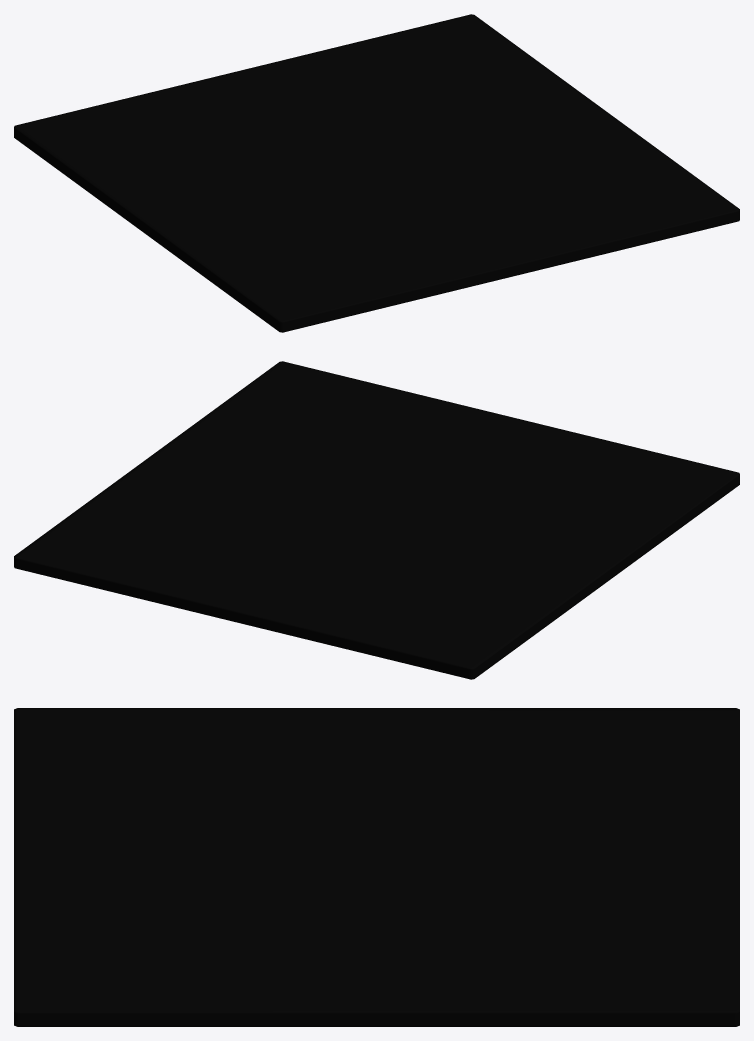
Rendered from CeilingLamp_Embed.FBX.
The picture shows the model from 3 angles, top to bottom: view 1: azimuth 30°, elevation 25°; view 2: azimuth 150°, elevation 25°; view 3: azimuth 270°, elevation 25°; orthographic projection. The views are drawn at different scales.
Visible parts, largest first — view 1: CeilingLamp_Embed; view 2: CeilingLamp_Embed; view 3: CeilingLamp_Embed.
Part boxes in pixels (bbox=[...]): CeilingLamp_Embed: bbox=[14, 14, 739, 332]; CeilingLamp_Embed: bbox=[14, 361, 739, 679]; CeilingLamp_Embed: bbox=[14, 708, 739, 1026].
Size of the model in its own units: 101 by 2.26 by 102.
